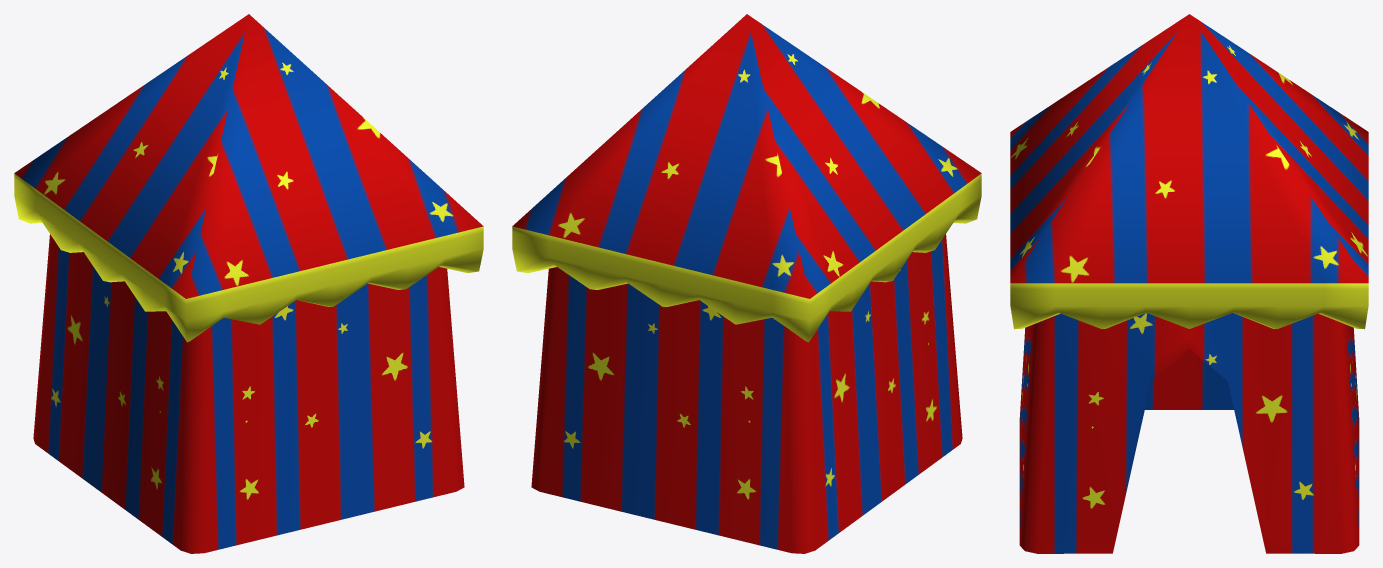
File: SquareTent.glb
The picture shows the model from 3 angles, left to right: view 1: azimuth 30°, elevation 25°; view 2: azimuth 150°, elevation 25°; view 3: azimuth 270°, elevation 25°; orthographic projection. The views are drawn at different scales.
Visible parts, largest first — view 1: Cube; view 2: Cube; view 3: Cube.
Boxes of the visible parts, box(x1,y1,x2,y2) form: Cube: box(14, 14, 483, 553); Cube: box(512, 14, 981, 553); Cube: box(1010, 14, 1368, 553).
Bounding box in the file's own units: 2.54 × 3.66 × 2.54.
1 material, 1 textured.
